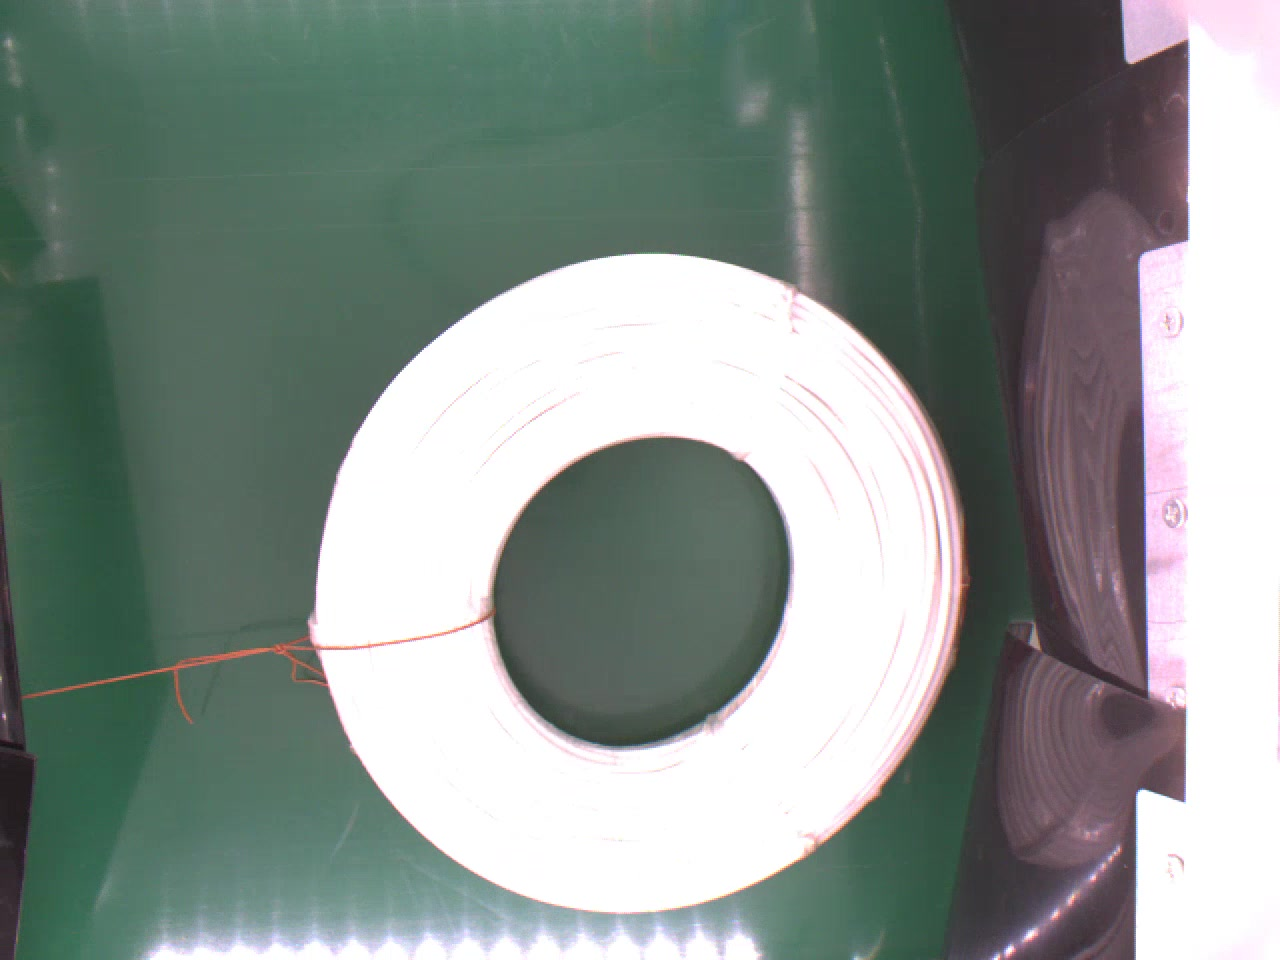white: (310, 249, 971, 914)
